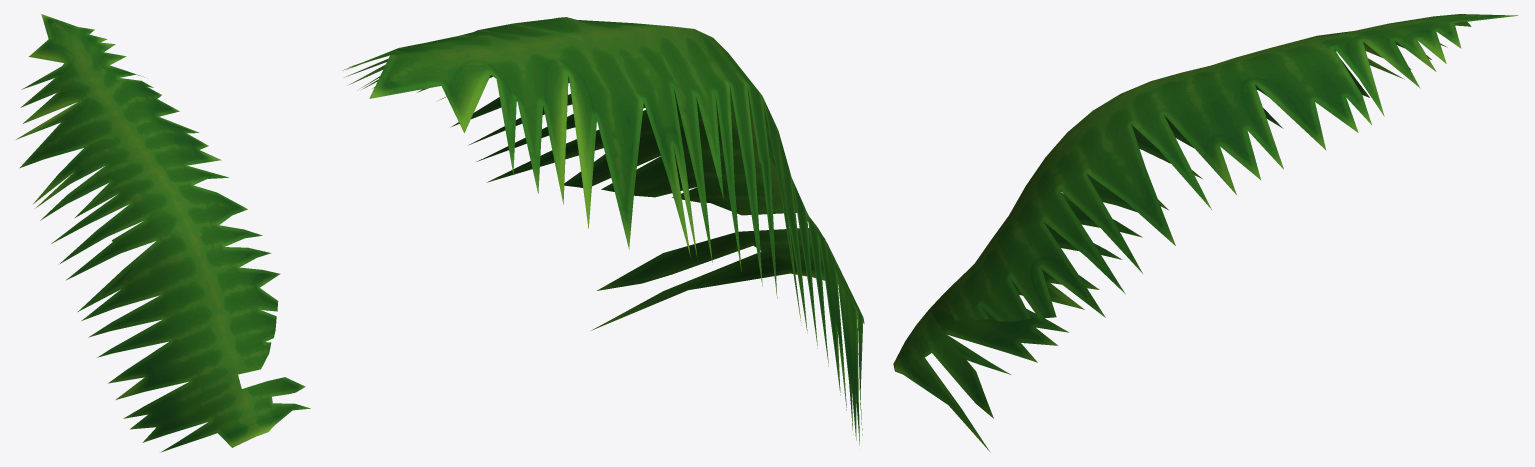
Rendered from palm_leaves_palm_leaves_0_008.obj.
The picture shows the model from 3 angles, left to right: view 1: azimuth 30°, elevation 25°; view 2: azimuth 150°, elevation 25°; view 3: azimuth 270°, elevation 25°; orthographic projection. The views are drawn at different scales.
Visible parts, largest first — view 1: palm_leaves_palm_leaves_0.008; view 2: palm_leaves_palm_leaves_0.008; view 3: palm_leaves_palm_leaves_0.008.
Part boxes in pixels (x1,y1,x2,y2): palm_leaves_palm_leaves_0.008: (16,14,310,452); palm_leaves_palm_leaves_0.008: (343,17,864,444); palm_leaves_palm_leaves_0.008: (893,14,1517,452).
Size of the model in its own units: 12.19 by 18.71 by 26.26.
Materials: 1 (1 with a texture image).
